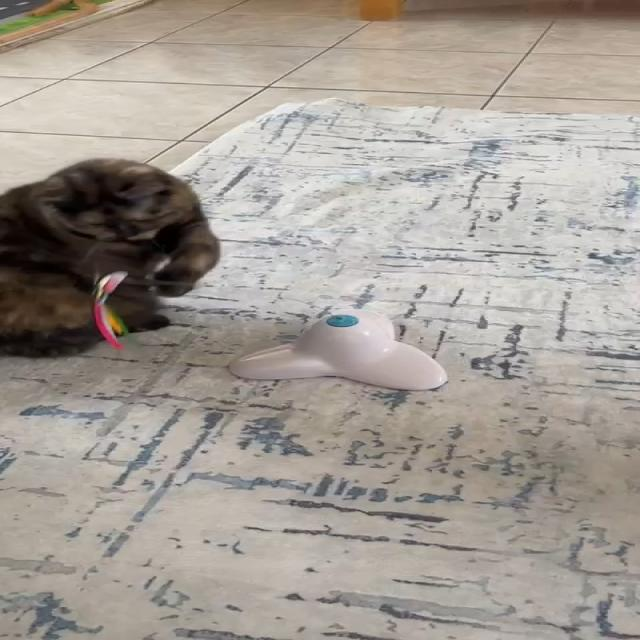authorized: (0, 156, 220, 358)
